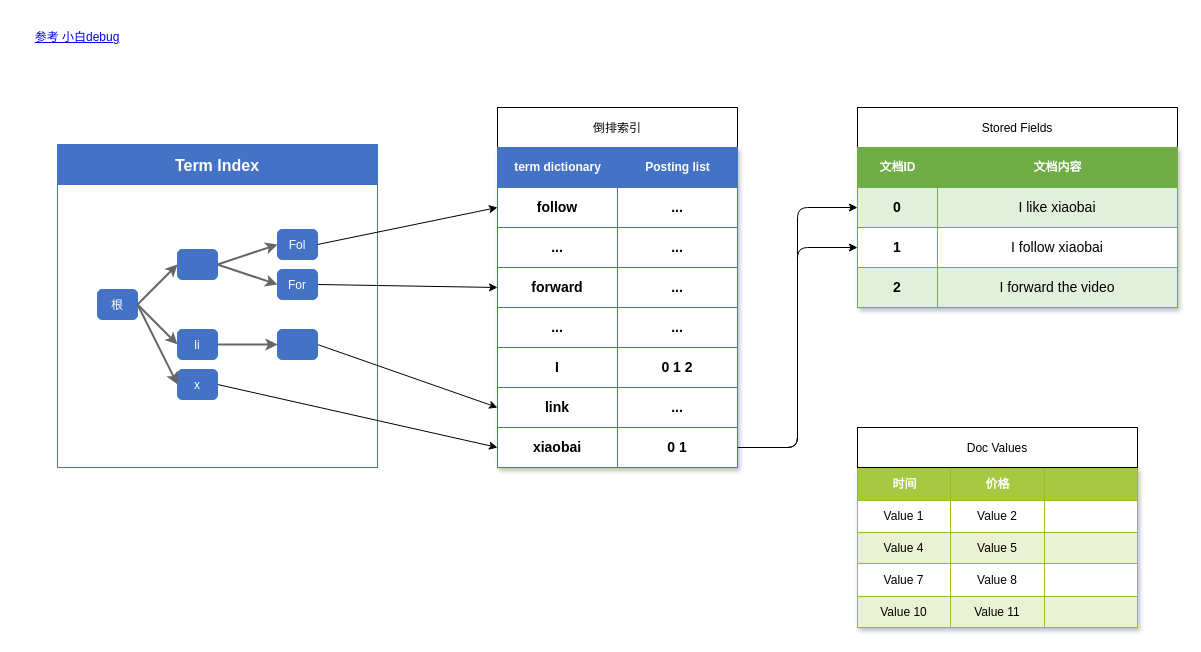
Some shapes in this 1201 by 652 pixel diagram are drawn without their labels. Here are the shapes that lost their labels. From the top down, the centre of each, then its label:
pixel 197 264: Fo
pixel 297 344: lin
